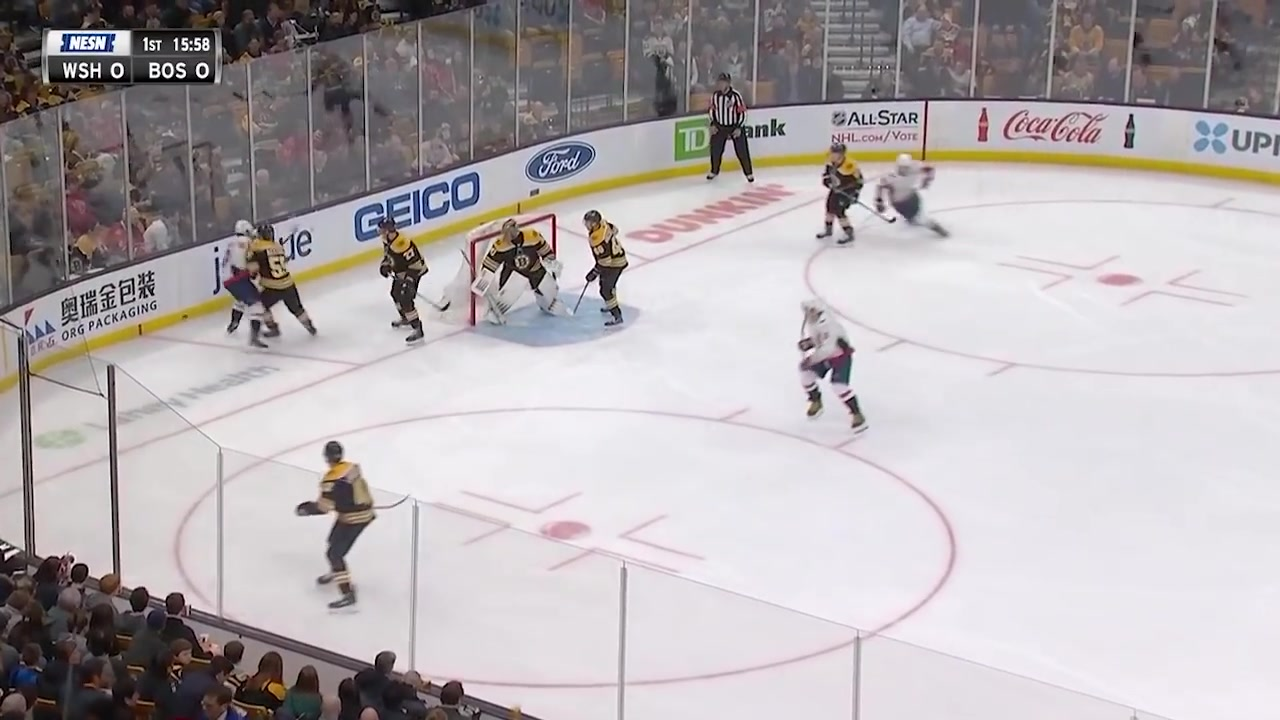Geico: (353, 169, 485, 243)
